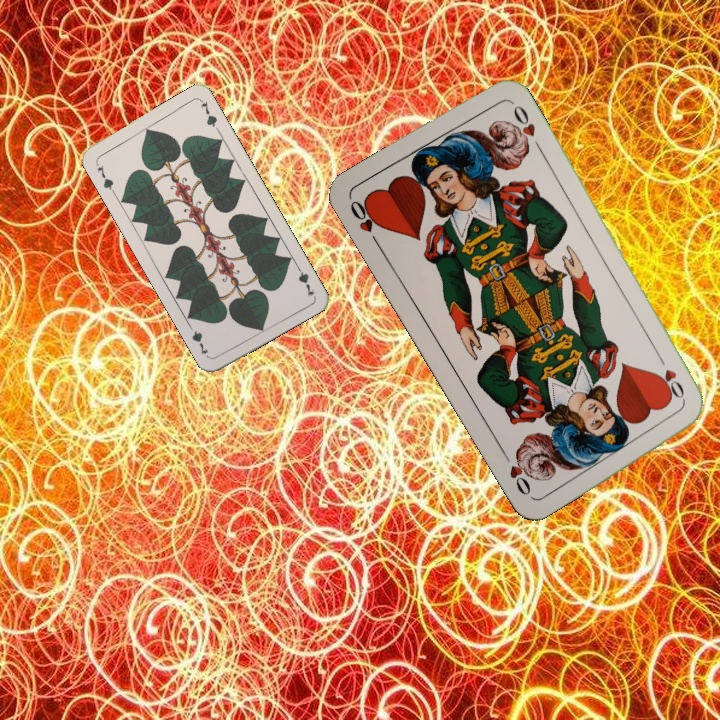G7: (292, 260, 317, 299), (93, 161, 117, 195)
HO: (346, 195, 385, 249), (653, 349, 688, 404)
